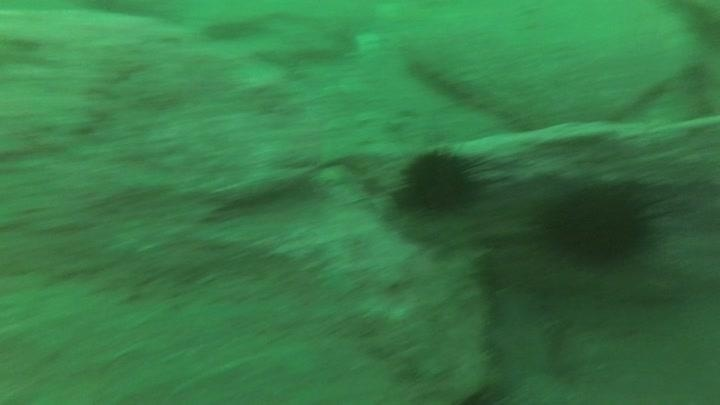echinus: (532, 176, 662, 271), (393, 142, 487, 221)
starfish: (479, 288, 577, 399)
